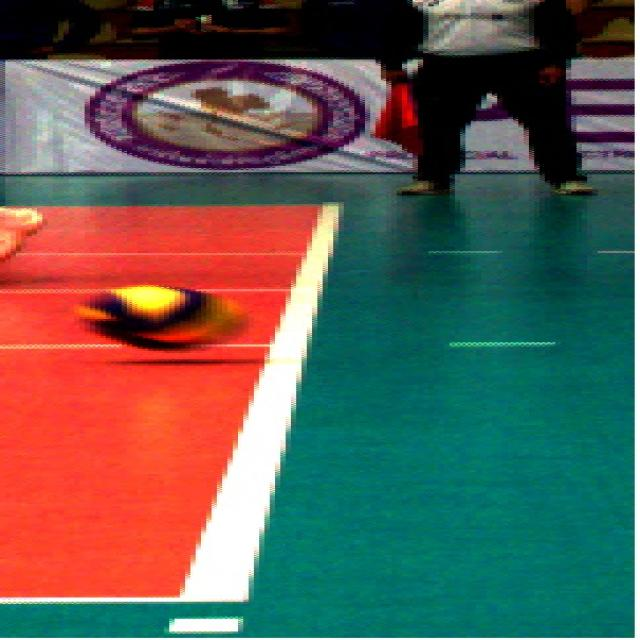Volleyball: (82, 286, 233, 349)
